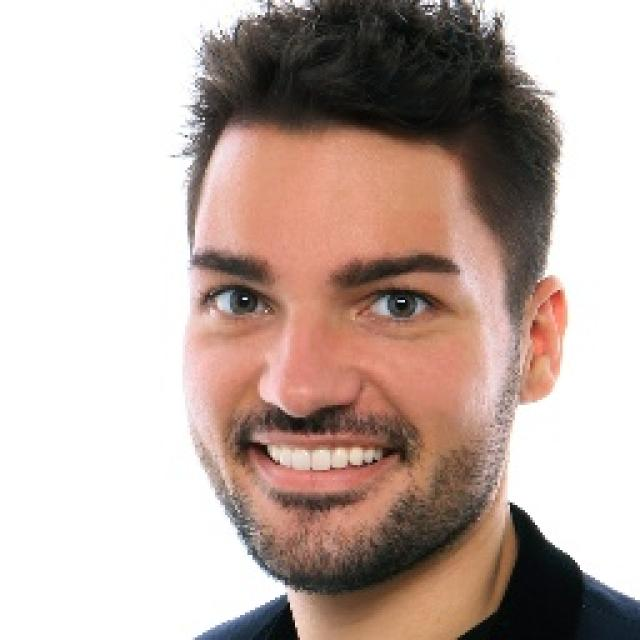earlobe: (520, 376, 557, 409)
eye: (356, 289, 443, 323), (206, 281, 270, 320)
nose: (256, 398, 367, 429)
wholeear: (520, 274, 570, 404)
